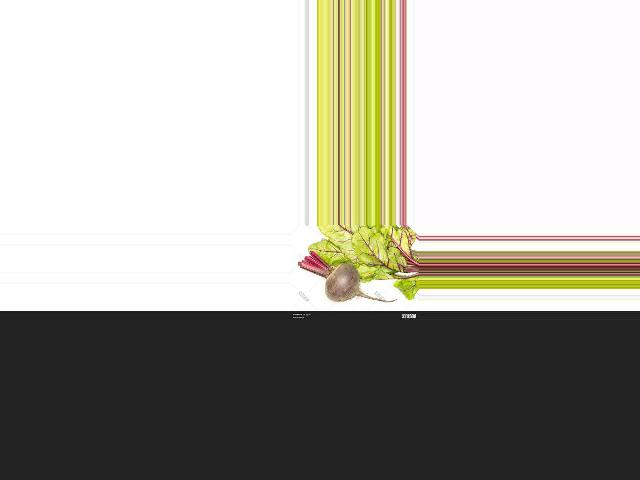beet: (297, 251, 396, 302)
